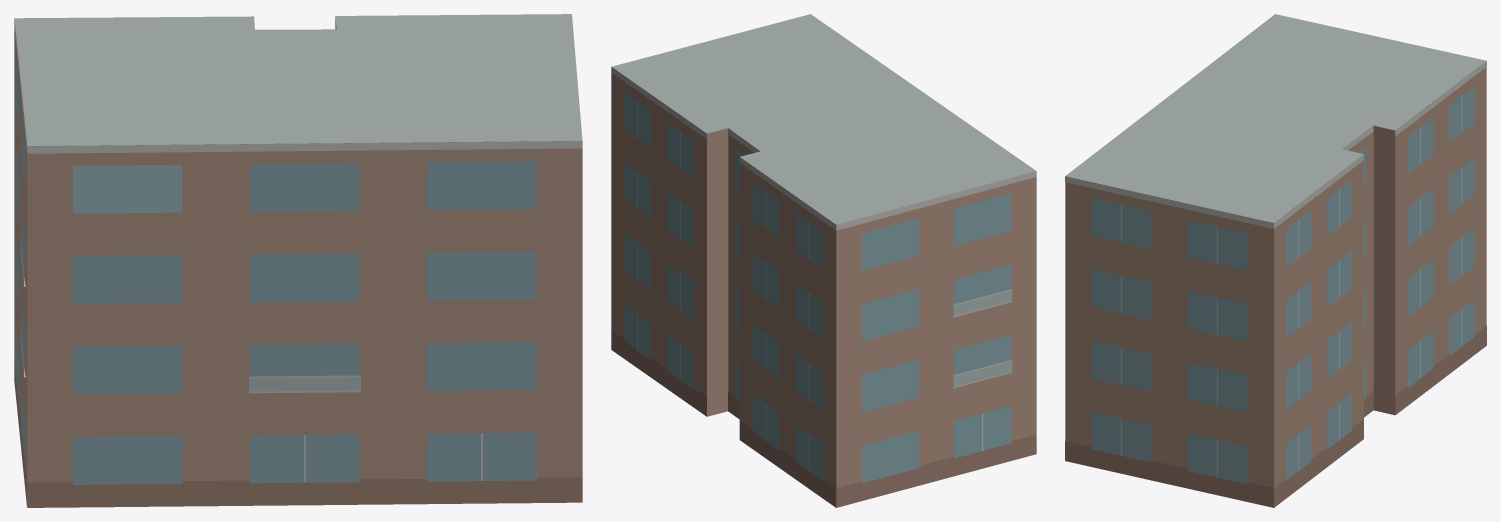
File: survey-upis-32657756.glb
3 views of the same model, side by side, from view 1: azimuth 30°, elevation 25°; view 2: azimuth 150°, elevation 25°; view 3: azimuth 270°, elevation 25° (orthographic). The views are drawn at different scales.
Parts seen in each view (by area): view 1: survey-upis-32657756.tmp; view 2: survey-upis-32657756.tmp; view 3: survey-upis-32657756.tmp.
Part boxes in pixels (x1,y1,x2,y2): survey-upis-32657756.tmp: (14, 14, 582, 507); survey-upis-32657756.tmp: (611, 14, 1036, 507); survey-upis-32657756.tmp: (1065, 14, 1486, 507).
Bounding box in the file's own units: 18.26 × 11.6 × 15.57.
